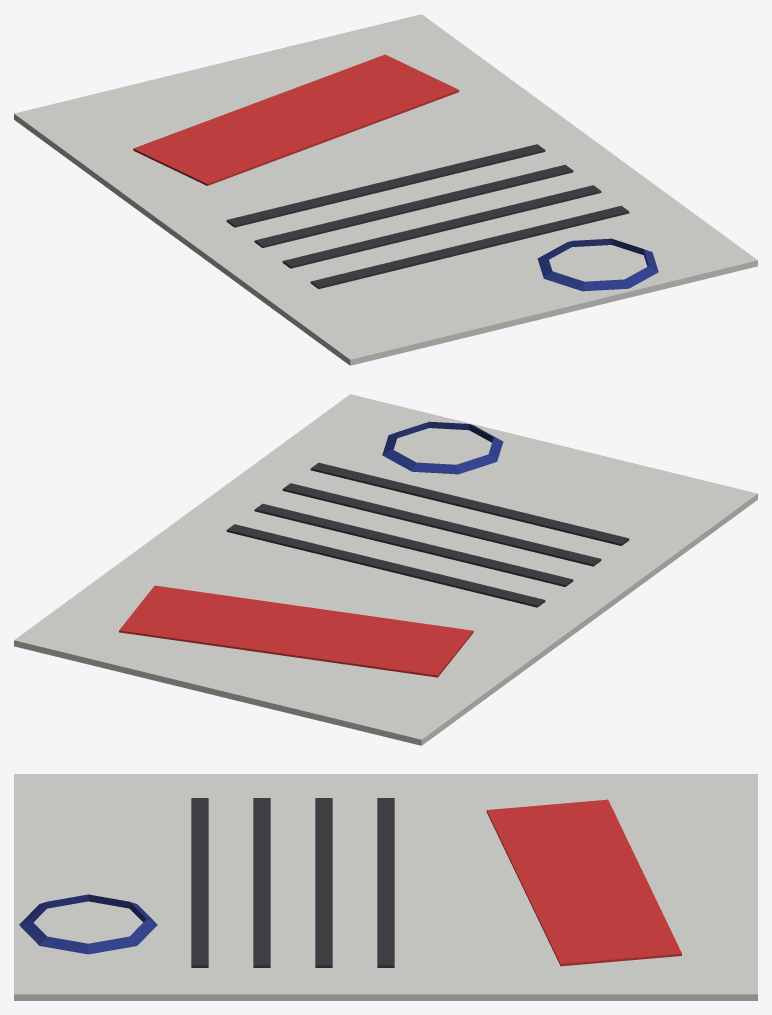
Rendered from shred_order.glb.
The picture shows the model from 3 angles, top to bottom: view 1: azimuth 30°, elevation 25°; view 2: azimuth 150°, elevation 25°; view 3: azimuth 270°, elevation 25°; orthographic projection. The views are drawn at different scales.
Parts seen in each view (by area): view 1: sheet_policy_paper, stamp_script_red, lines_folder_text (×4), signature_postit_ink; view 2: sheet_policy_paper, stamp_script_red, lines_folder_text (×4), signature_postit_ink; view 3: sheet_policy_paper, stamp_script_red, lines_folder_text (×4), signature_postit_ink.
Part boxes in pixels (left/top/right/bottom): sheet_policy_paper: left=14, top=14, right=757, bottom=365; stamp_script_red: left=133, top=54, right=459, bottom=185; lines_folder_text (×4): left=226, top=144, right=629, bottom=288; signature_postit_ink: left=537, top=238, right=658, bottom=291; sheet_policy_paper: left=14, top=394, right=757, bottom=745; stamp_script_red: left=119, top=585, right=473, bottom=677; lines_folder_text (×4): left=226, top=462, right=629, bottom=607; signature_postit_ink: left=382, top=421, right=503, bottom=474; sheet_policy_paper: left=14, top=774, right=757, bottom=1000; stamp_script_red: left=486, top=799, right=681, bottom=966; lines_folder_text (×4): left=191, top=798, right=394, bottom=967; signature_postit_ink: left=19, top=894, right=157, bottom=954.
Bounding box in the file's own units: 0.21 × 0.0061 × 0.3.
